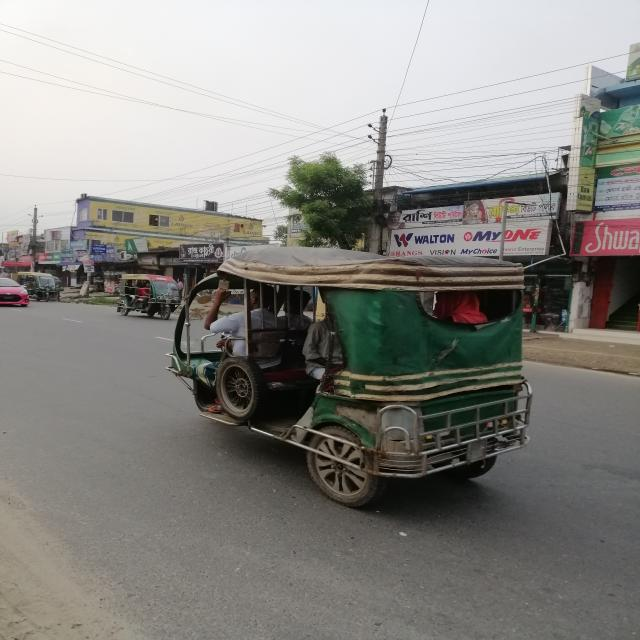Easybike: (167, 245, 529, 510)
